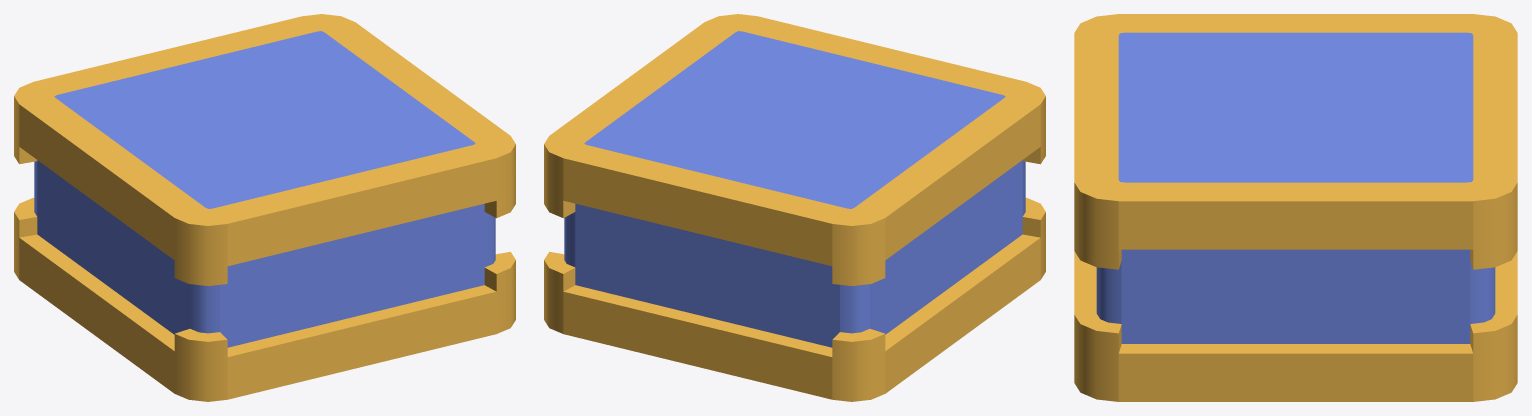
Rendered from blockMovingRed.glb.
The picture shows the model from 3 angles, left to right: view 1: azimuth 30°, elevation 25°; view 2: azimuth 150°, elevation 25°; view 3: azimuth 270°, elevation 25°; orthographic projection. The views are drawn at different scales.
Visible parts, largest first — view 1: blockMovingRed; view 2: blockMovingRed; view 3: blockMovingRed.
Part boxes in pixels (x1=…): blockMovingRed: x1=14, y1=14, x2=515, y2=401; blockMovingRed: x1=544, y1=14, x2=1045, y2=401; blockMovingRed: x1=1074, y1=14, x2=1517, y2=401.
Bounding box in the file's own units: 1 × 0.5 × 1.
